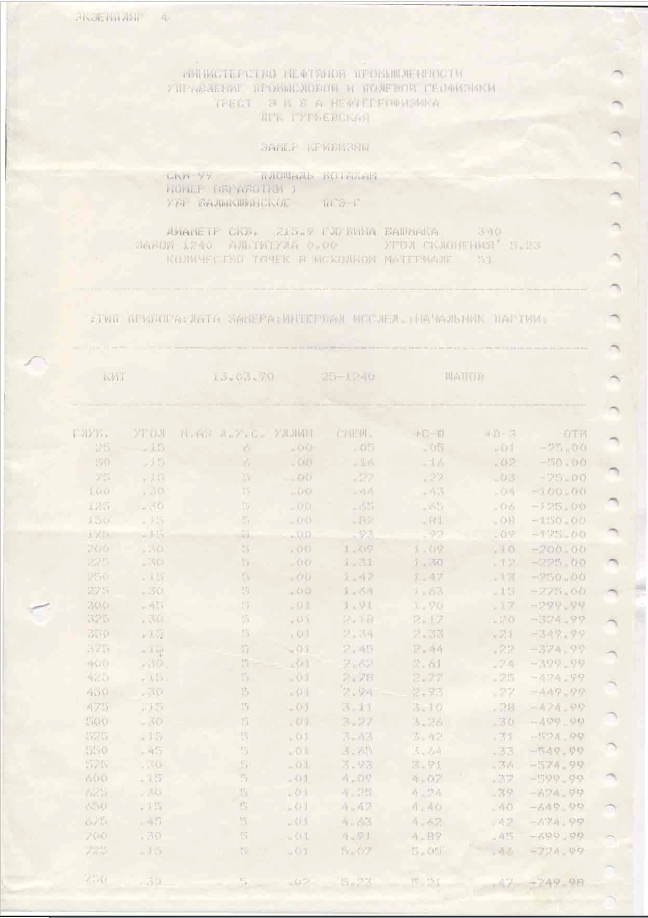Borderless: (70, 404, 607, 865)
